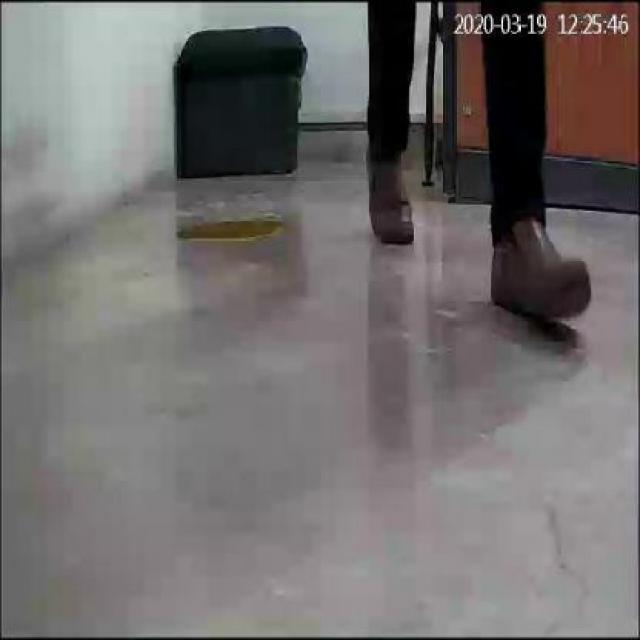spill: (172, 217, 274, 245)
